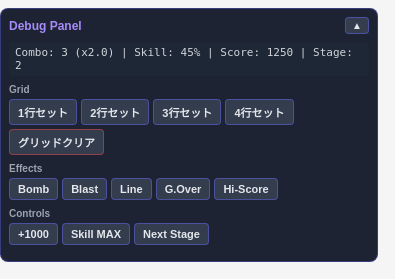
Scenario: TestModePanel › パネル表示 › 折りたたみボタンでパネルの内容を非表示にできる
Expected: the button "1行セット" is shown, top-left (9, 99), bottom-right (77, 125)
Click the button named "デバッグパネルを折りたたむ". click: click(357, 26)
box: top-left (345, 17), bottom-right (369, 34)
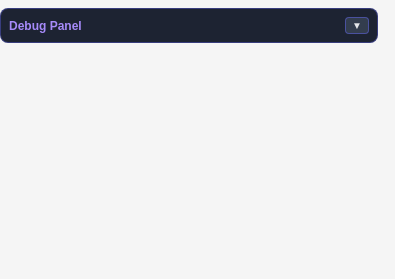
Expected: the button "1行セット" is gone
